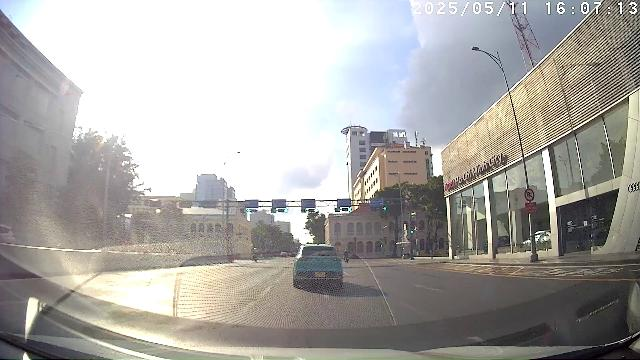124b-cam-oto-quay-dau-xe: (524, 188, 535, 202)
